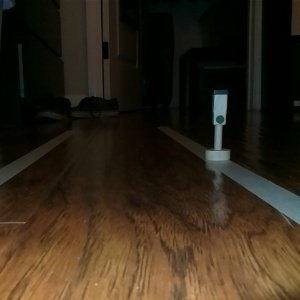traffic light green: (202, 88, 232, 164)
